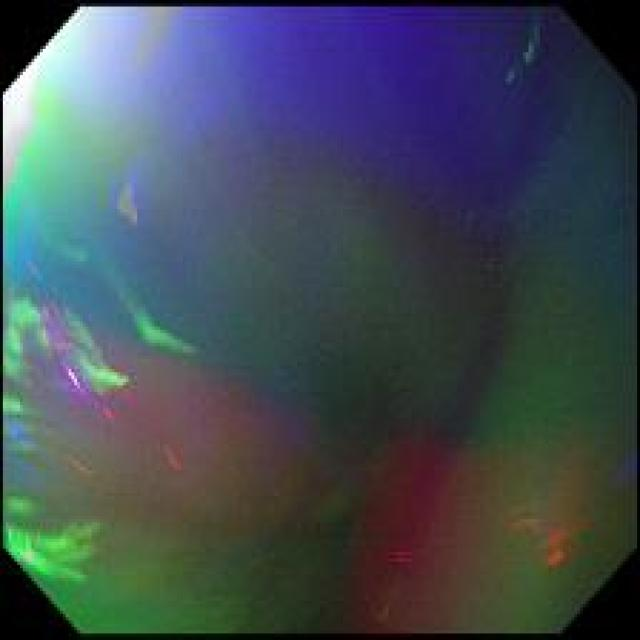color misalignment: (2, 2, 639, 638)
saturation: (4, 42, 55, 189)
specularity: (118, 184, 136, 224), (19, 551, 33, 566)
